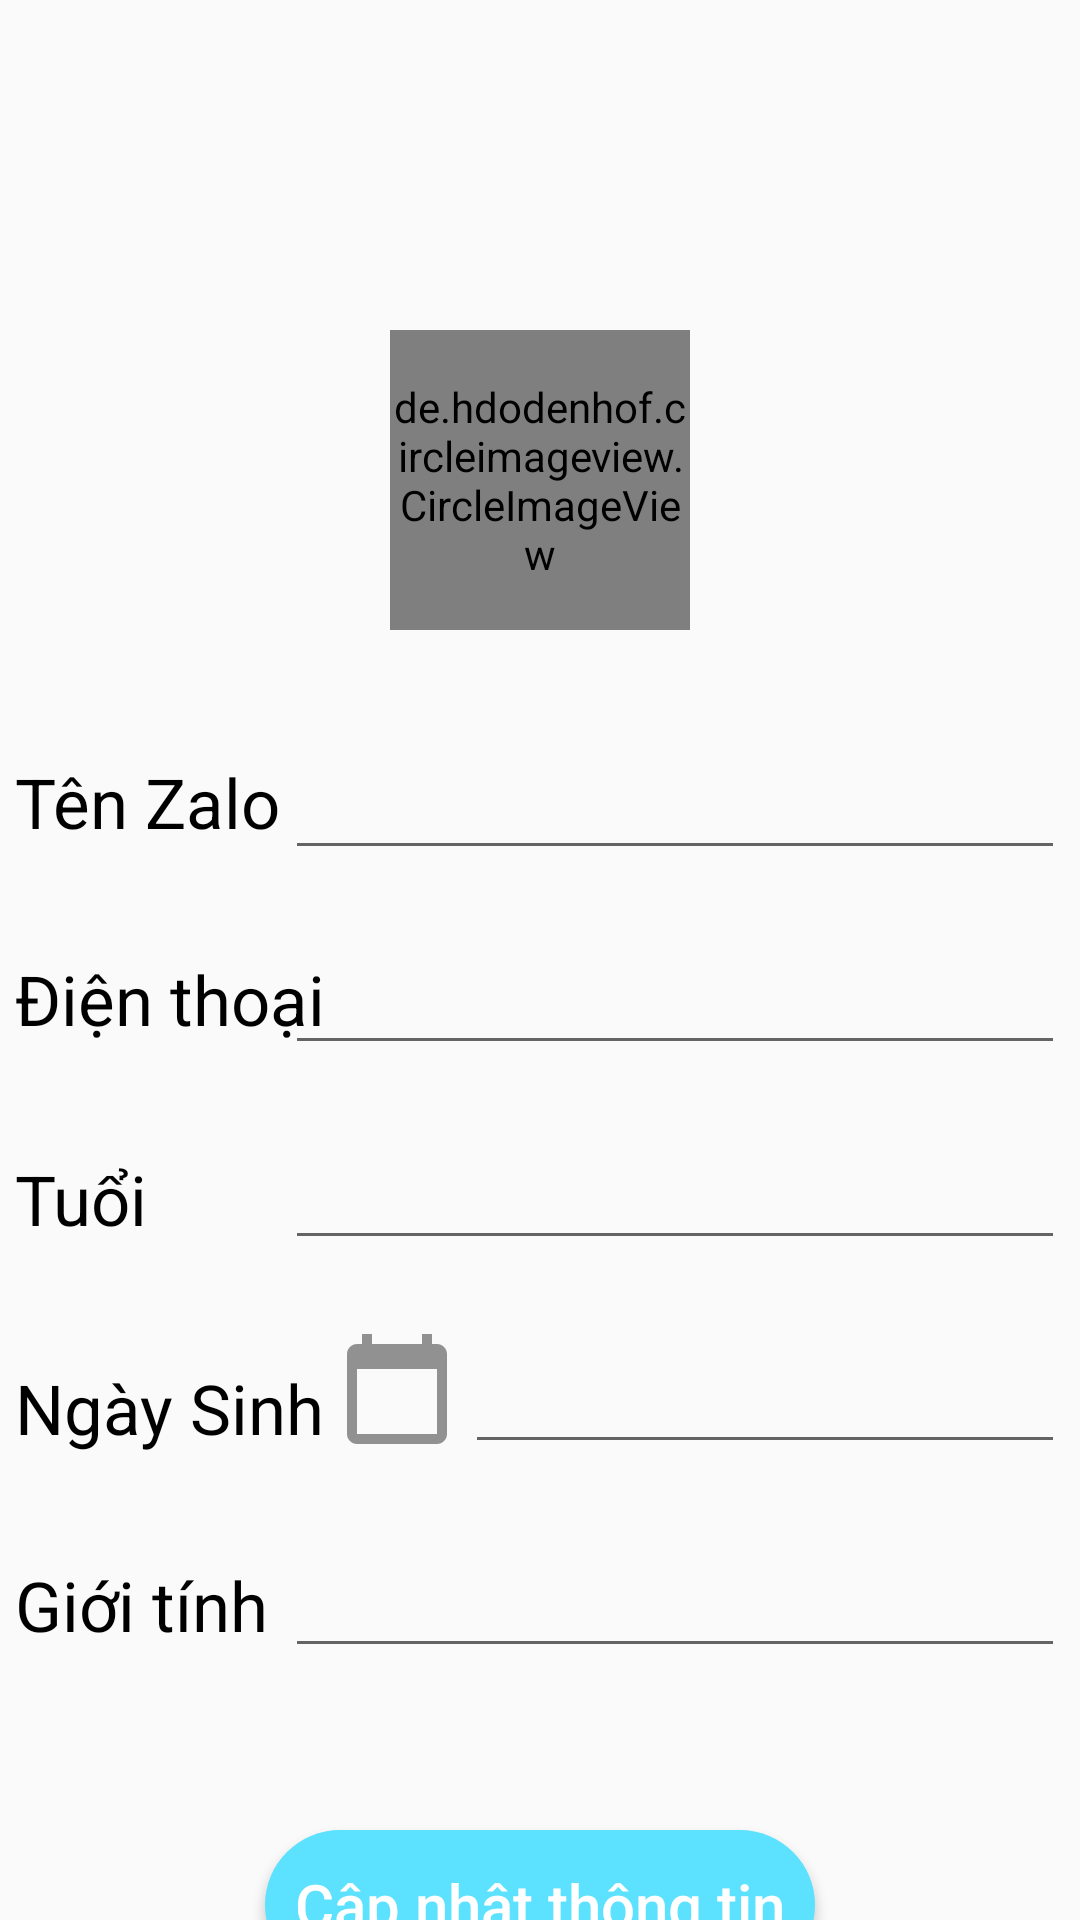

Icons on this 1080 x 1920 Android screen, each with its box as (x1, y1, x2, y2):
calendar: (347, 1334, 447, 1444)
